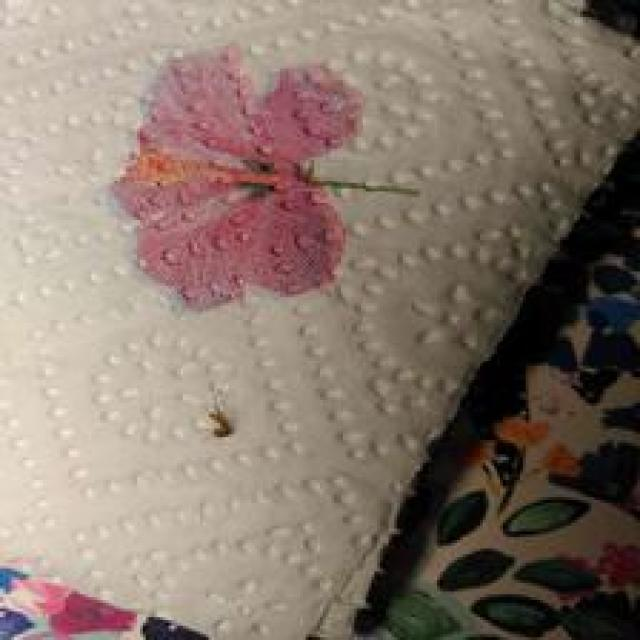Culex: (110, 40, 421, 311)
